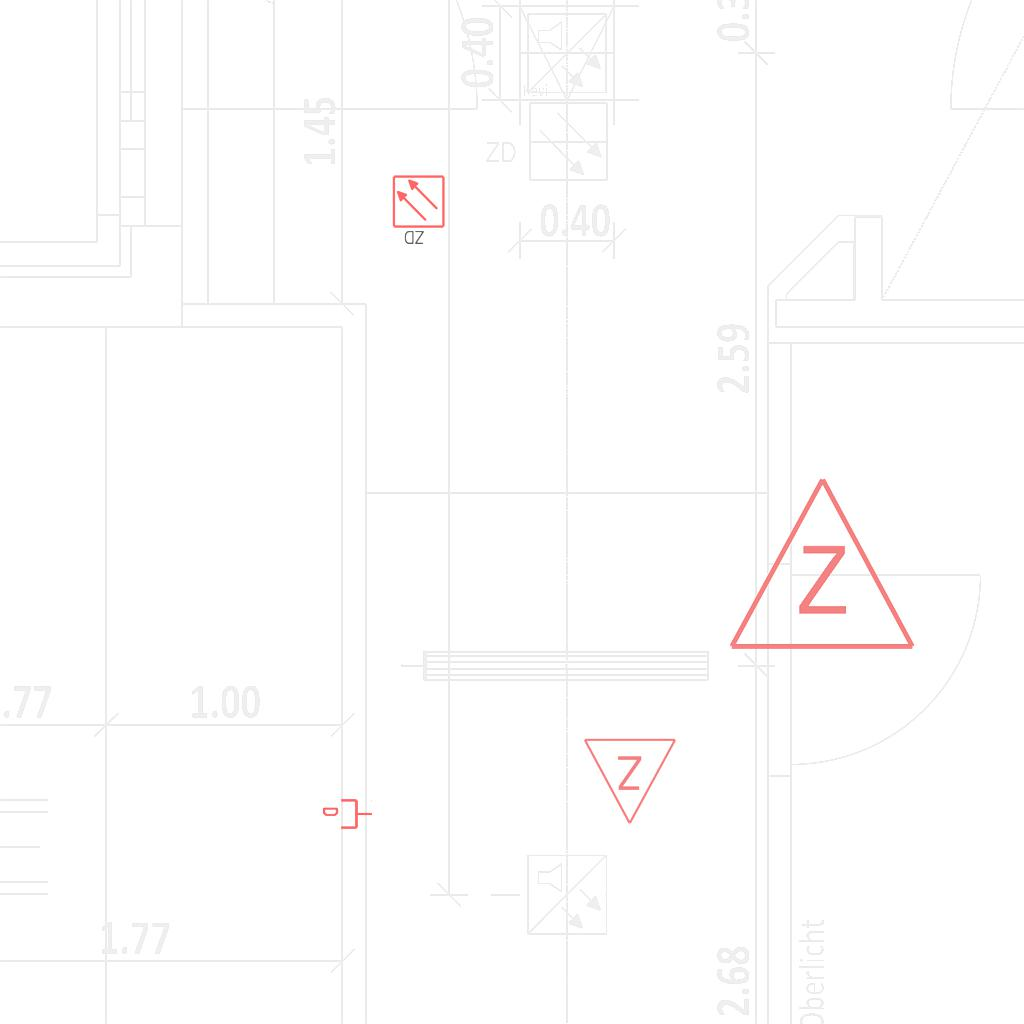Datenanschluss_einfach: (323, 797, 373, 831)
ZD_Melder_in_Zwischendecke_mit_Revisionsoeffnung_mind_40_x_40_cm: (391, 174, 448, 248)
Zimmersignalleuchte: (722, 464, 918, 664), (582, 731, 680, 831)
